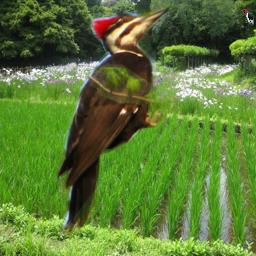Woodpecker: (54, 2, 178, 237), (240, 9, 254, 26)
